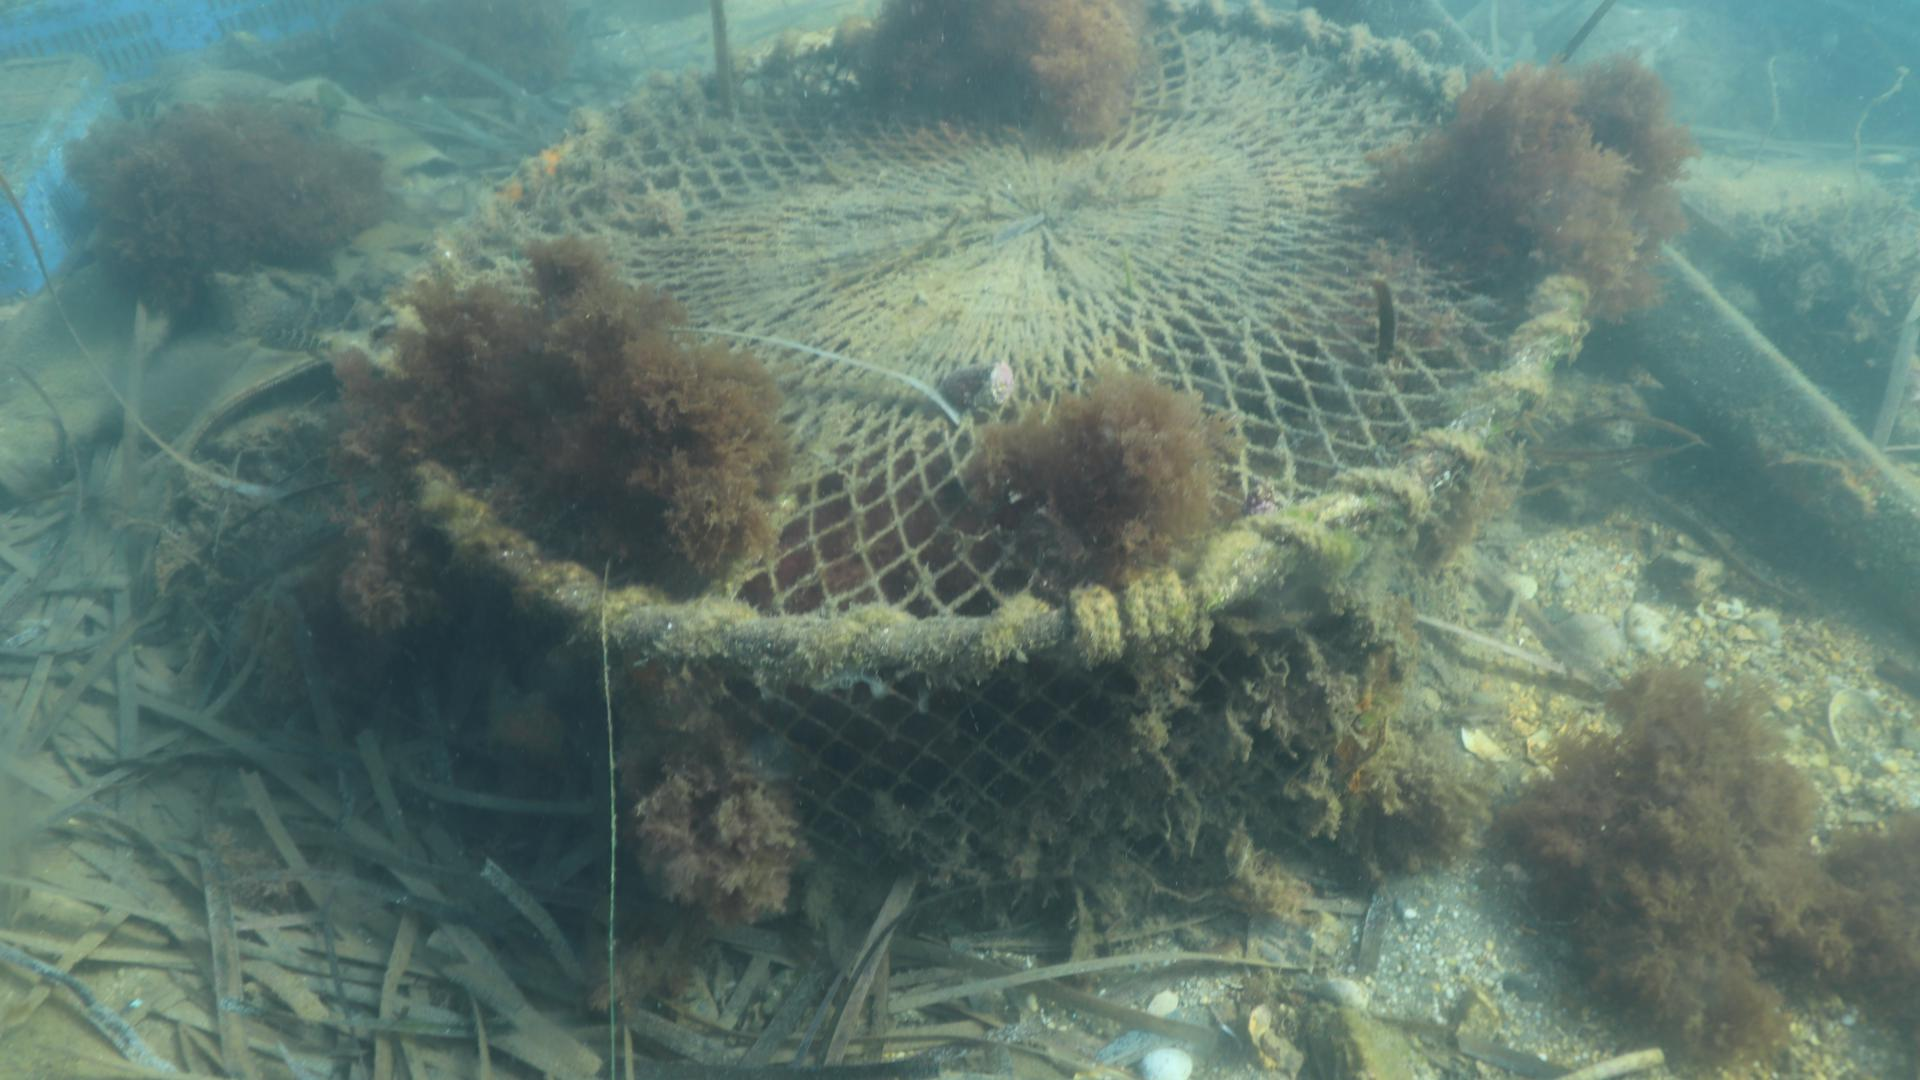circular fish trap: (382, 0, 1598, 870)
